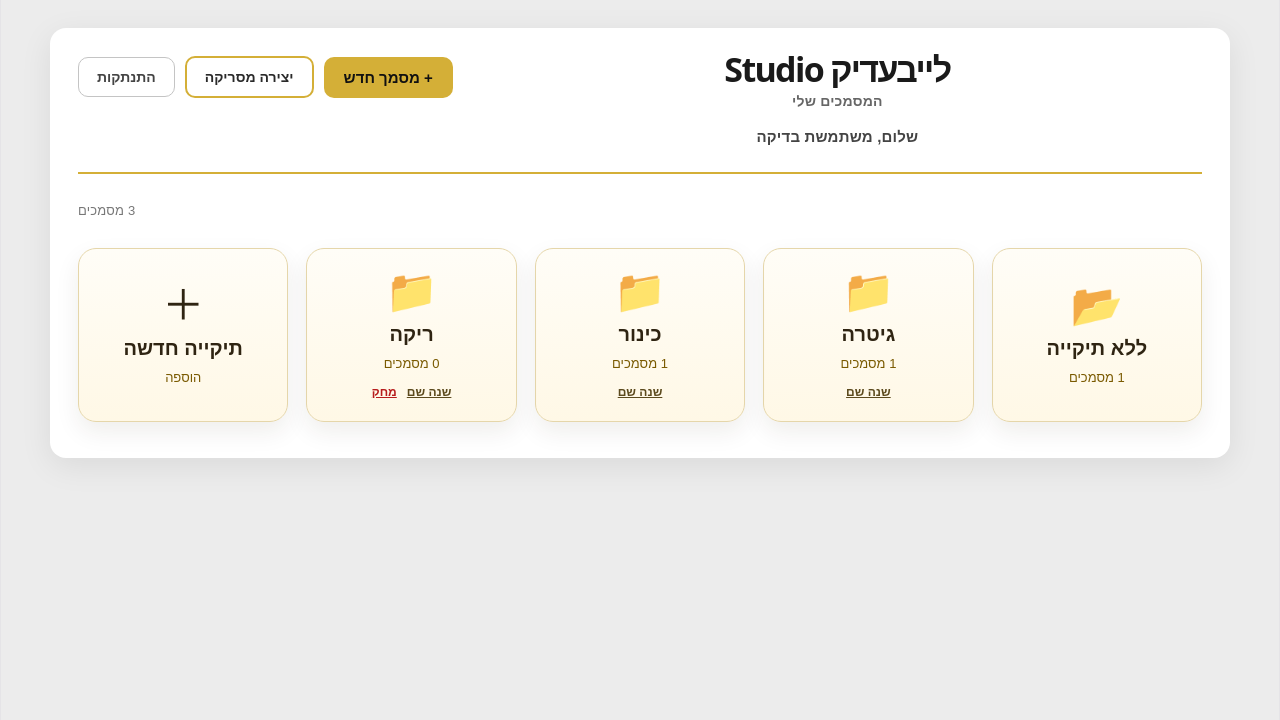
DocumentsHome › לחיצה על תיקייה מציגה רק את המסמכים שלה
Click the button "📁 גיטרה 1 מסמכים שנה שם" at [868, 335], box [763,248,974,422]
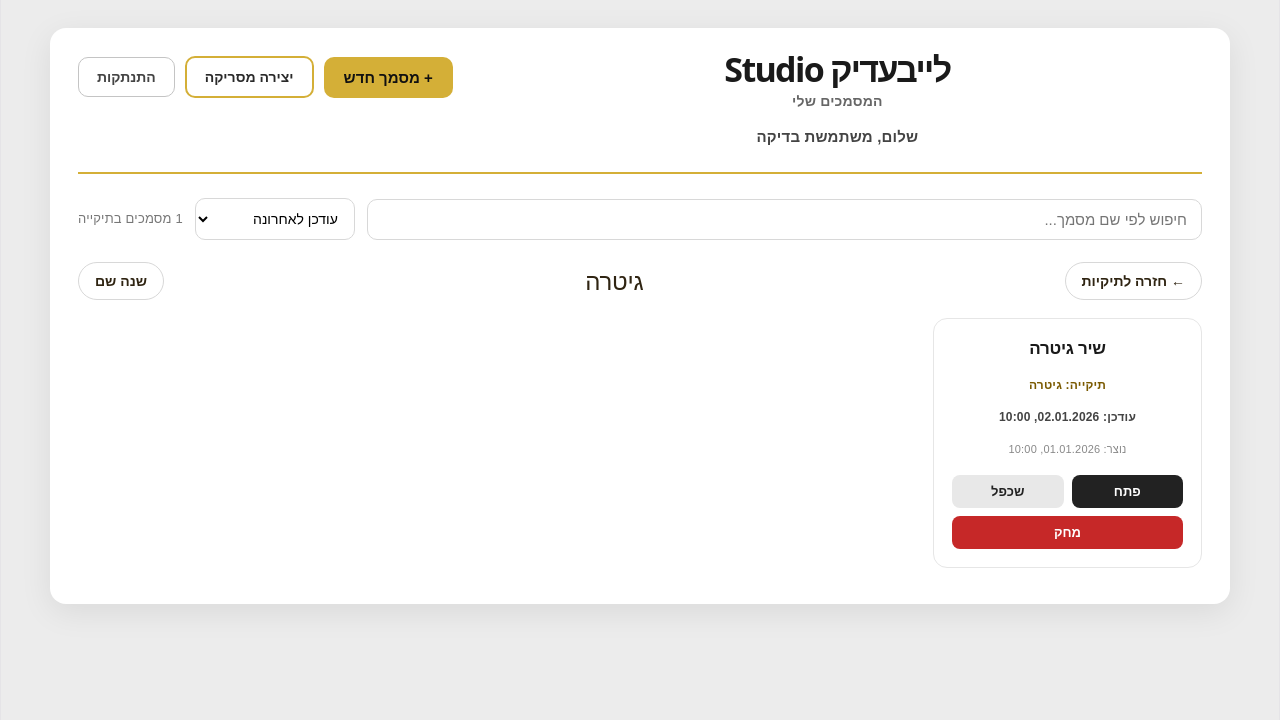
Expected: the heading "שיר גיטרה" is shown, [1029,336,1106,359]
